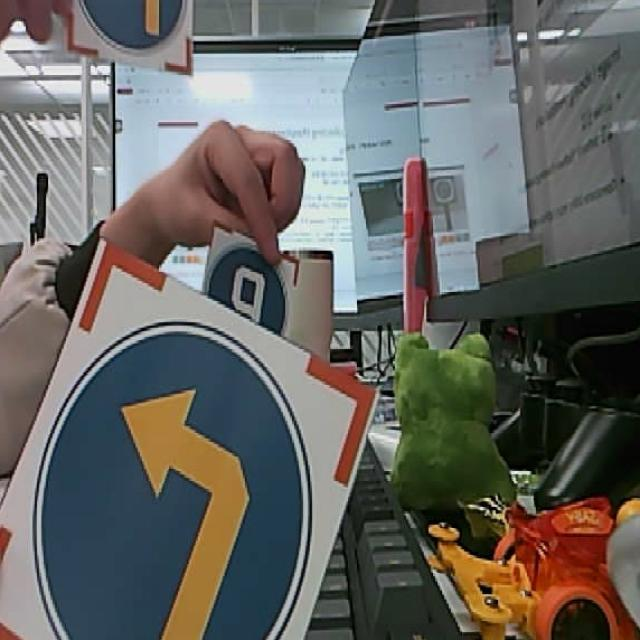parking: (201, 230, 302, 322)
turn: (0, 240, 376, 640)
